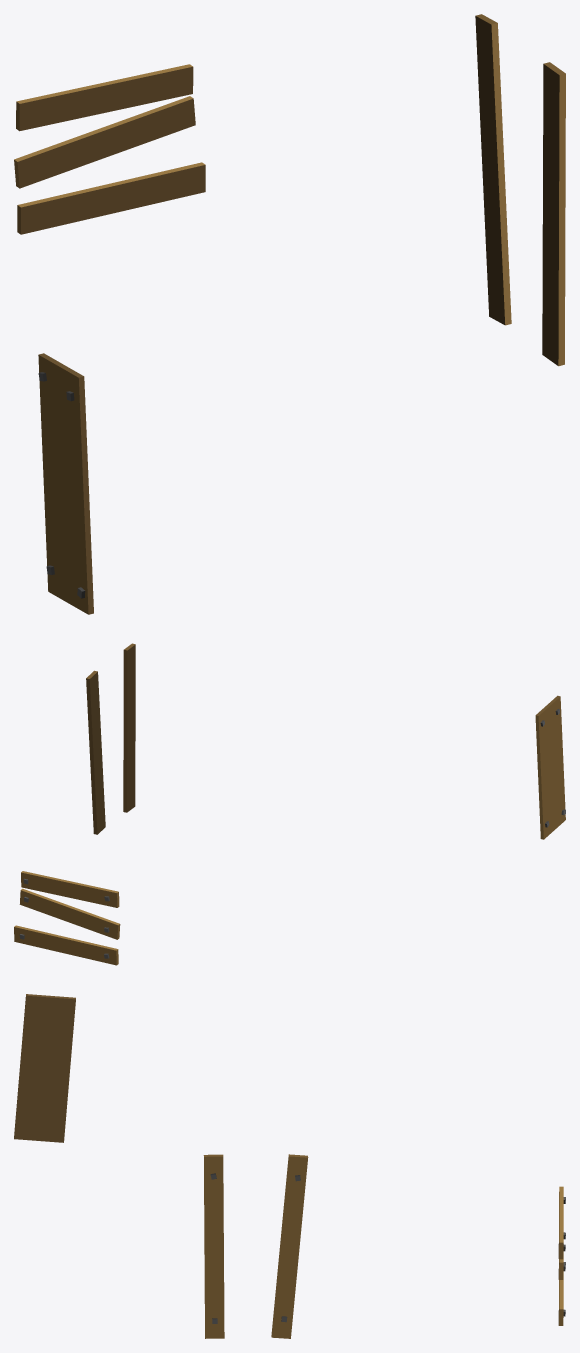
File: SA_Bld_HouseTall_Extras_02.gltf
3 views of the same model, one above another, from view 1: azimuth 30°, elevation 25°; view 2: azimuth 150°, elevation 25°; view 3: azimuth 270°, elevation 25° (orthographic). The views are drawn at different scales.
Parts seen in each view (by area): view 1: SA_Bld_HouseTall_Extras_02; view 2: SA_Bld_HouseTall_Extras_02; view 3: SA_Bld_HouseTall_Extras_02.
Boxes of the visible parts, x1,y1,x2,y2 form: SA_Bld_HouseTall_Extras_02: (14, 14, 565, 614); SA_Bld_HouseTall_Extras_02: (14, 643, 565, 965); SA_Bld_HouseTall_Extras_02: (14, 994, 565, 1338).
Bounding box in the file's own units: 10.78 × 5 × 12.98.
Materials: 1 (1 with a texture image).
